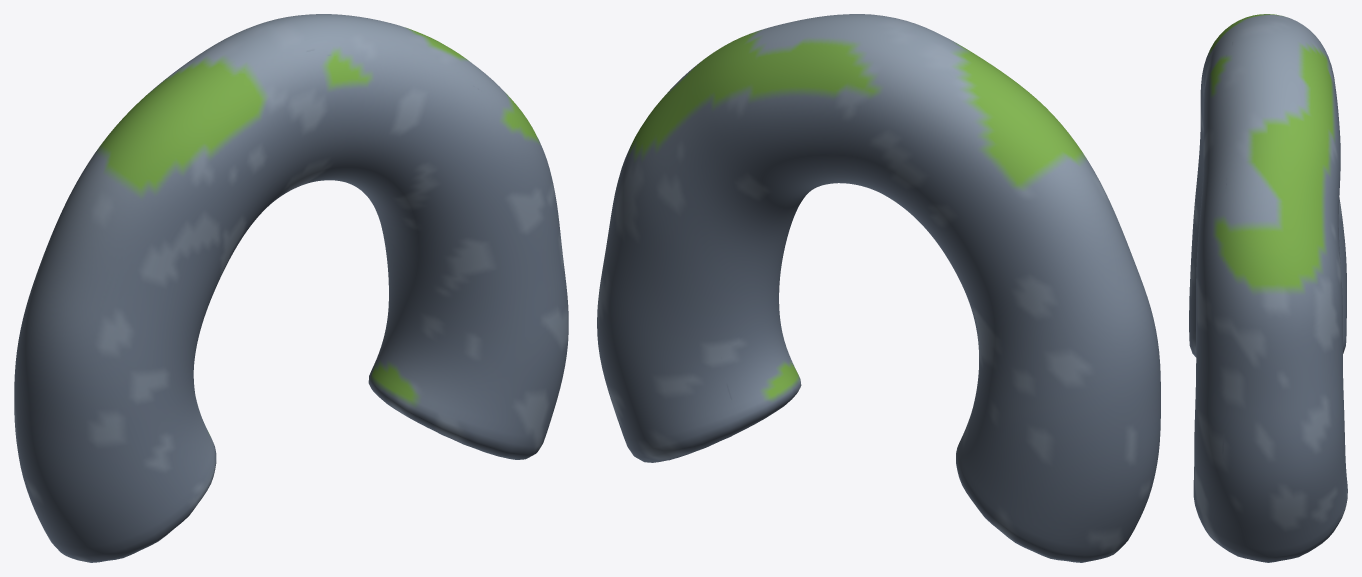
Rendered from rock_arch.glb.
The picture shows the model from 3 angles, left to right: view 1: azimuth 30°, elevation 25°; view 2: azimuth 150°, elevation 25°; view 3: azimuth 270°, elevation 25°; orthographic projection. The views are drawn at different scales.
Parts seen in each view (by area): view 1: RockArch; view 2: RockArch; view 3: RockArch.
Part boxes in pixels (x1=…): RockArch: x1=14, y1=14, x2=568, y2=562; RockArch: x1=597, y1=14, x2=1160, y2=562; RockArch: x1=1189, y1=14, x2=1347, y2=562.
Bounding box in the file's own units: 2.4 × 2.05 × 0.6854.
Materials: 1 (1 with a texture image).
